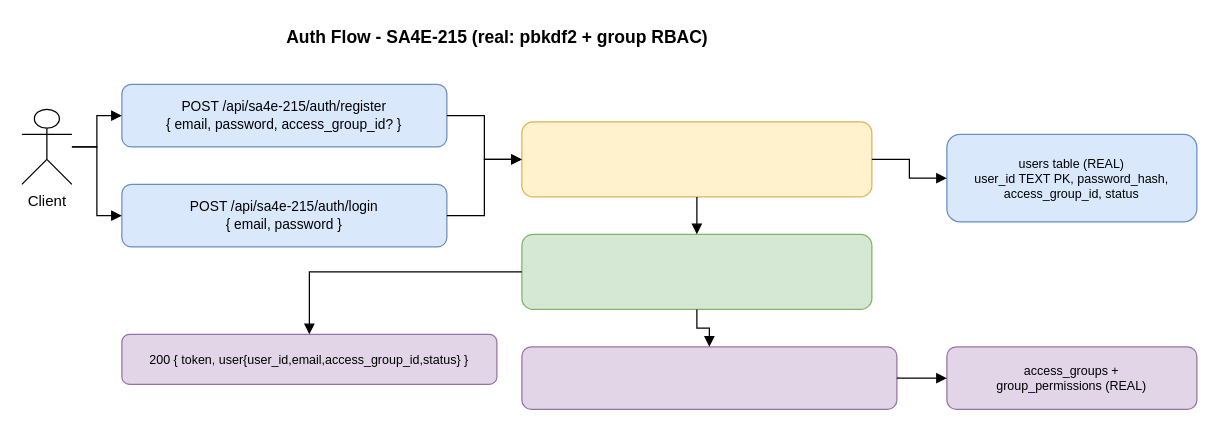
Some shapes in this 1219 by 431 pixel diagram are drawn without their labels. The centre of each missing label's shape, as x and y in pixels:
generateToken claims: { user_id, access_group_id }: the point at 696,271
RBAC: access_group_id -> access_groups -> group_permissions: the point at 709,377
verifyPassword / hashPassword pbkdf2(salt:hash, sha512, 10k): the point at 696,159
